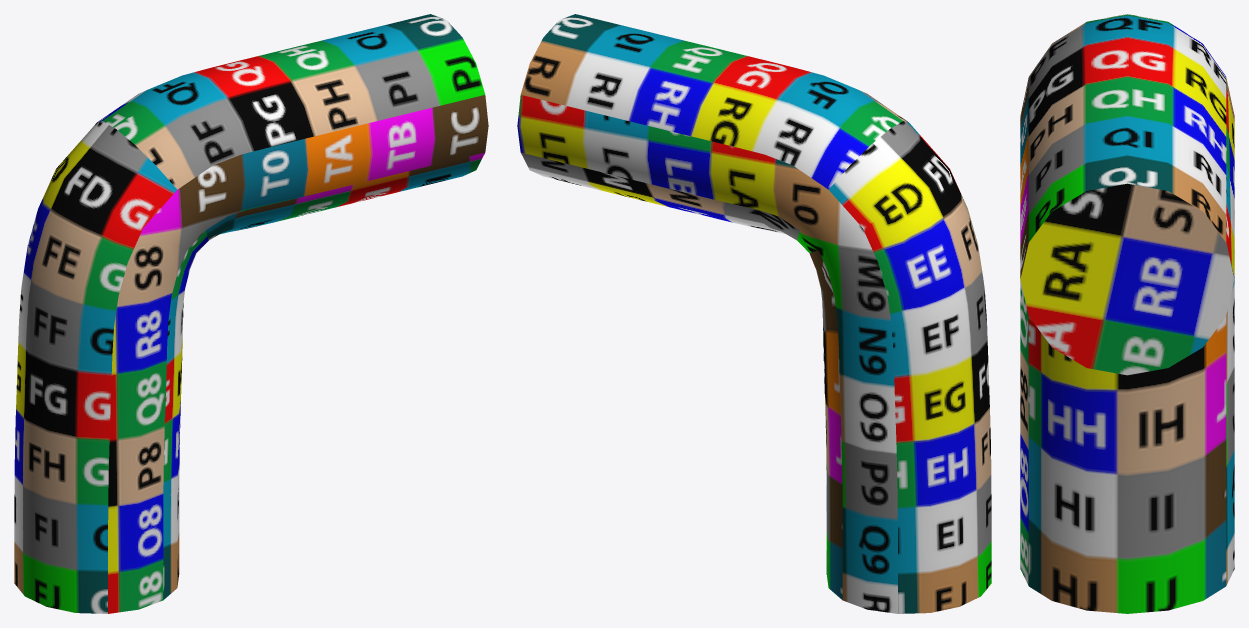
File: BigTube.obj
3 views of the same model, side by side, from view 1: azimuth 30°, elevation 25°; view 2: azimuth 150°, elevation 25°; view 3: azimuth 270°, elevation 25° (orthographic). The views are drawn at different scales.
Visible parts, largest first — view 1: default; view 2: default; view 3: default.
Part boxes in pixels (x1,y1,x2,y2): default: [14, 14, 488, 613]; default: [517, 14, 991, 613]; default: [1020, 14, 1234, 613].
Size of the model in its own units: 25.39 by 27.24 by 8.77.
